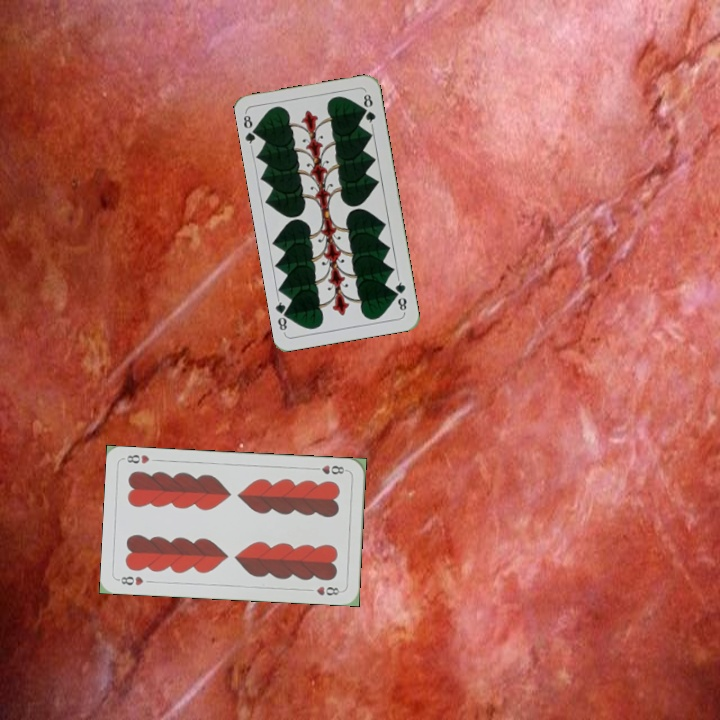G8: (239, 110, 262, 150), (391, 275, 409, 315)
H8: (309, 461, 349, 477), (115, 572, 145, 588)
